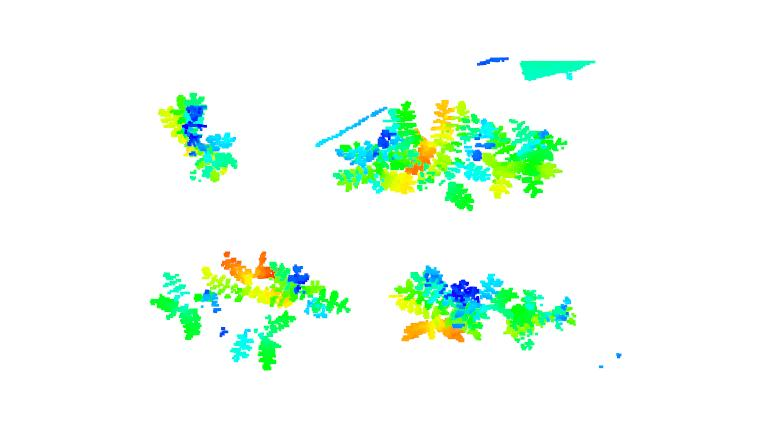chickpea: (228, 253, 352, 374), (156, 245, 275, 339), (387, 262, 491, 352), (334, 99, 429, 195), (416, 100, 495, 209), (157, 92, 237, 189), (497, 117, 571, 206), (495, 284, 586, 351)
